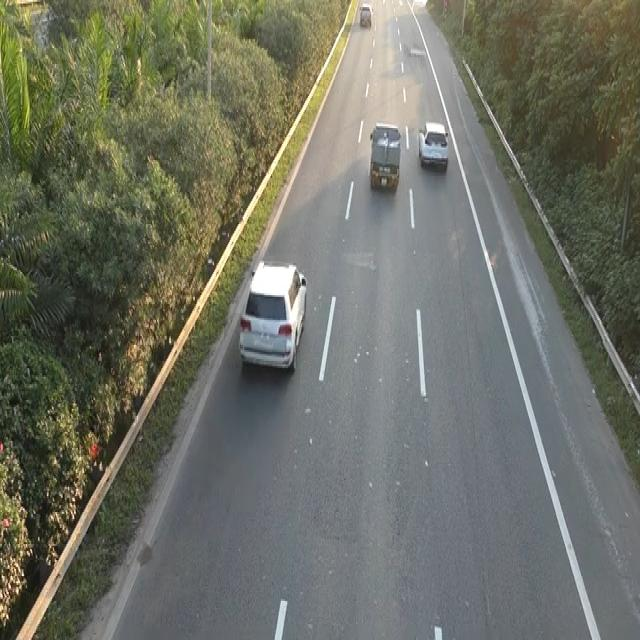car: (236, 256, 310, 380), (417, 117, 449, 171)
minivan: (367, 119, 402, 192)
